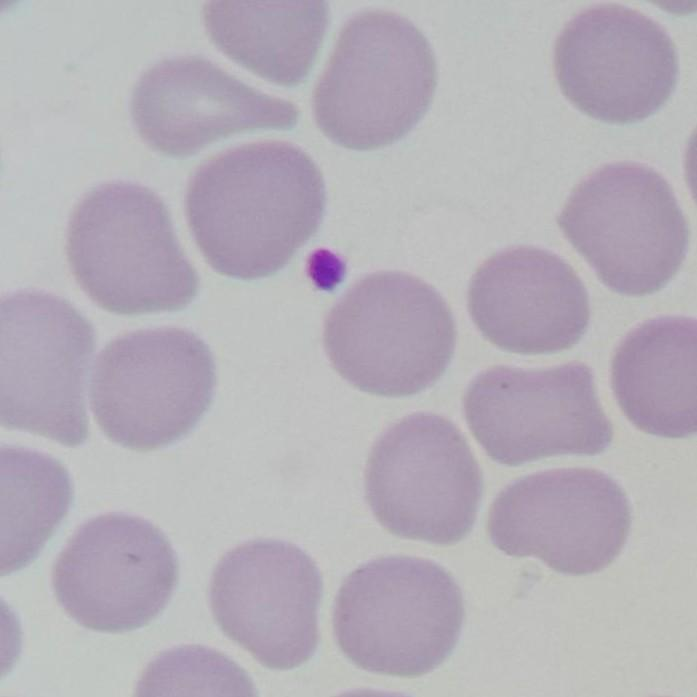Uninfected: (191, 135, 326, 285), (313, 10, 438, 153), (557, 162, 690, 296), (69, 180, 200, 312), (133, 55, 302, 156), (3, 279, 96, 458), (491, 460, 631, 577), (366, 410, 487, 543), (90, 323, 217, 449), (329, 272, 454, 399), (466, 360, 614, 466), (50, 512, 179, 632), (336, 558, 464, 678), (556, 2, 677, 126), (214, 540, 319, 672), (467, 243, 588, 352), (607, 313, 697, 439)
